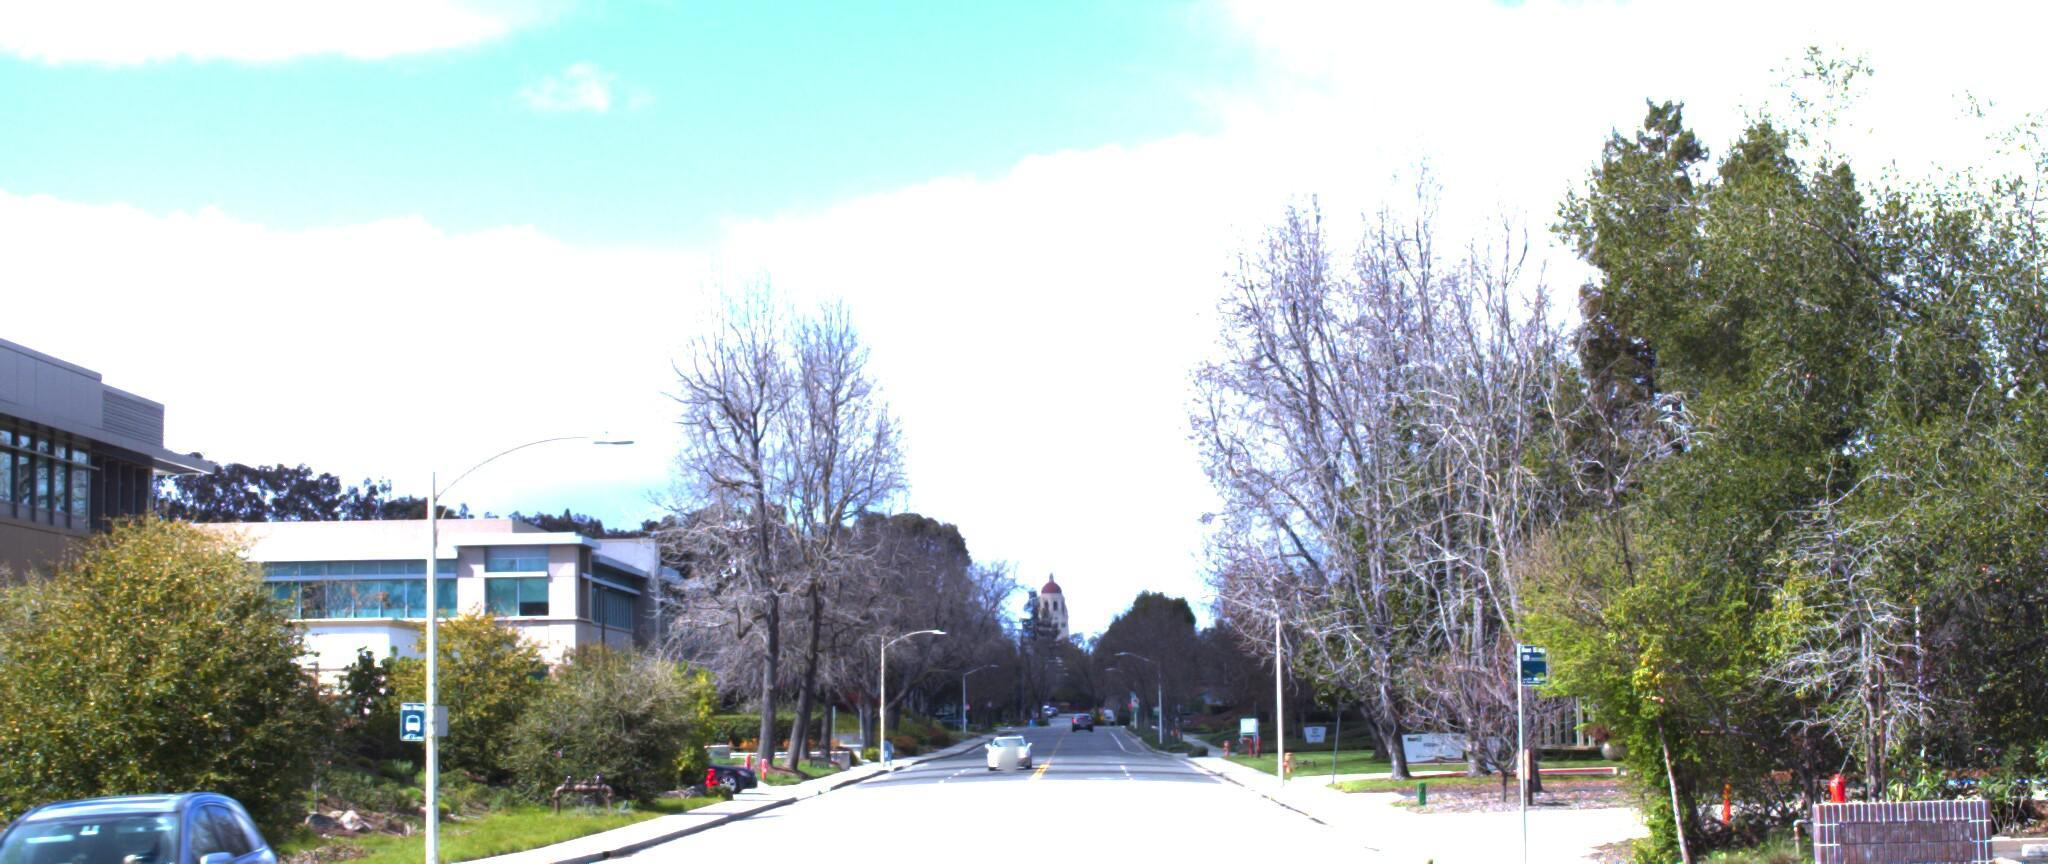car: (0, 795, 317, 864), (0, 824, 159, 864)
